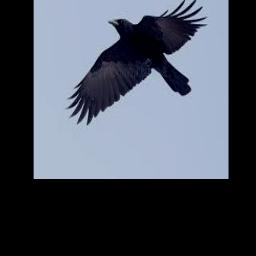Crow: (68, 0, 208, 123)
